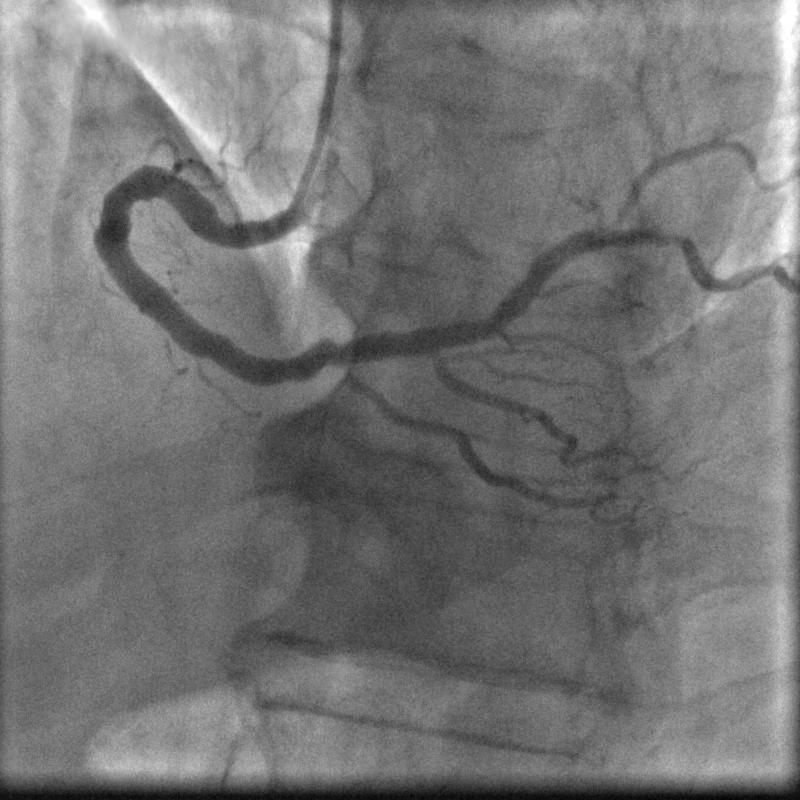Stenosis: (640, 227, 694, 255)
